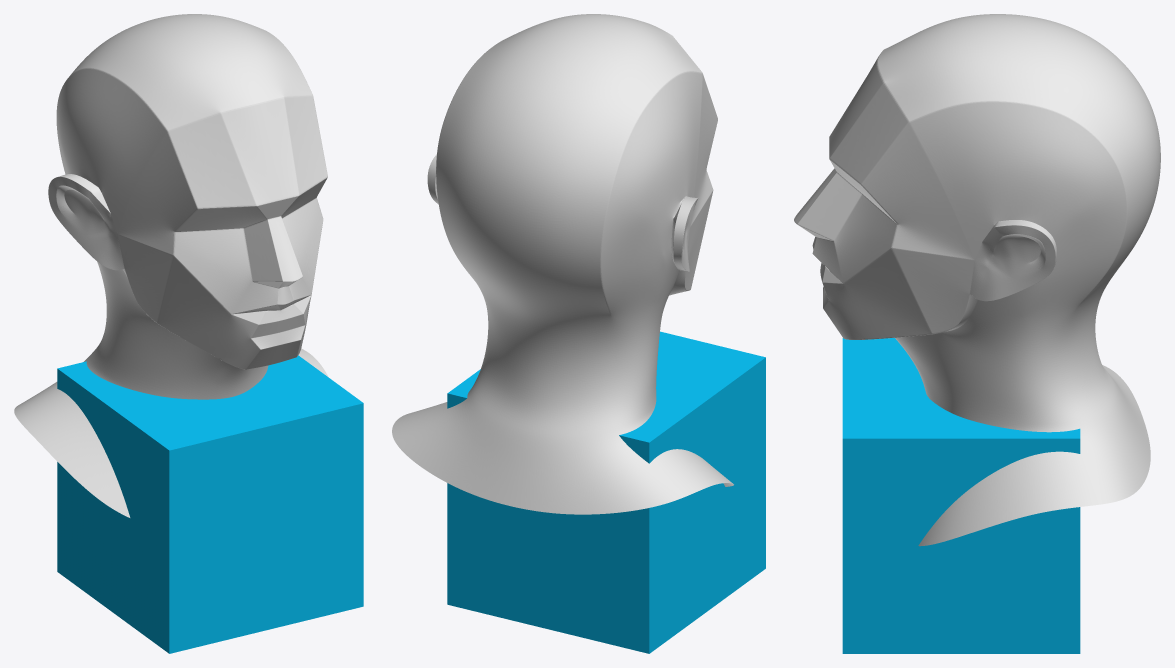
3 views of the same model, side by side, from view 1: azimuth 30°, elevation 25°; view 2: azimuth 150°, elevation 25°; view 3: azimuth 270°, elevation 25° (orthographic). The views are drawn at different scales.
Visible parts, largest first — view 1: Base_Head_Planes, Box; view 2: Base_Head_Planes, Box; view 3: Base_Head_Planes, Box.
Part boxes in pixels (left/top/right/bottom): Base_Head_Planes: left=14, top=14, right=328, bottom=517; Box: left=57, top=355, right=363, bottom=653; Base_Head_Planes: left=392, top=14, right=733, bottom=514; Box: left=447, top=331, right=765, bottom=653; Base_Head_Planes: left=794, top=14, right=1160, bottom=546; Box: left=842, top=338, right=1080, bottom=653.
Size of the model in its own units: 1.49 by 2.68 by 1.54.
